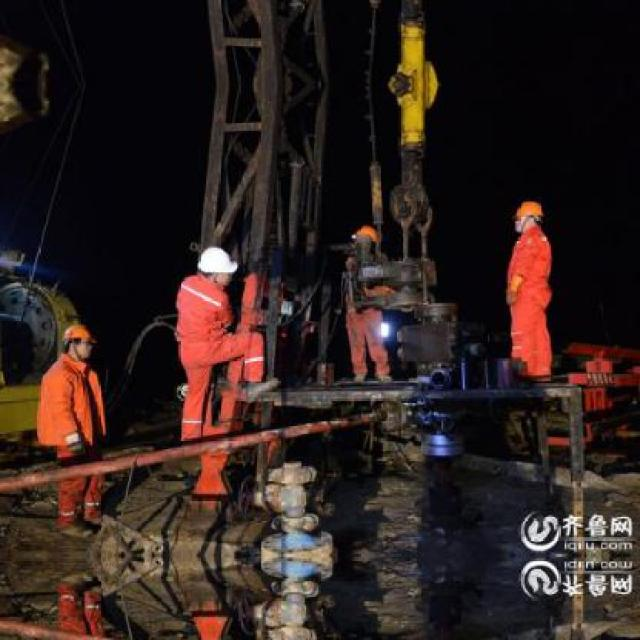helmet: (512, 194, 553, 240), (196, 244, 236, 284), (64, 318, 96, 362)
